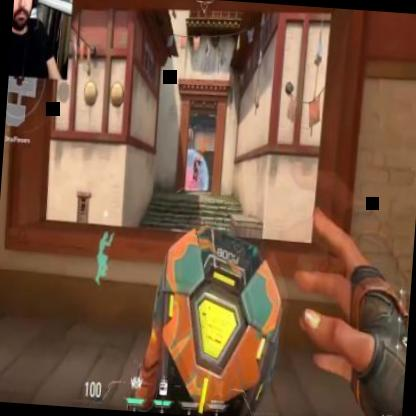enemy: (190, 155, 200, 182)
enemy_head: (194, 156, 198, 161)
